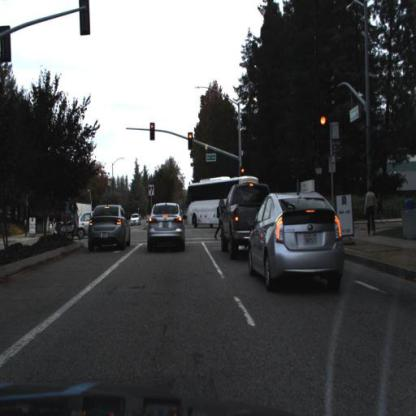car: (252, 188, 346, 294), (218, 184, 273, 259), (222, 184, 256, 257), (90, 204, 131, 251), (147, 205, 182, 251), (73, 211, 96, 238), (71, 212, 92, 237), (131, 213, 143, 228), (131, 215, 142, 227)
pedestrian: (364, 185, 380, 238), (364, 188, 380, 236)
trafficLight-Red: (321, 112, 330, 149), (319, 113, 329, 145), (188, 131, 195, 151), (189, 131, 194, 151), (241, 168, 246, 178), (242, 168, 246, 178)
trafficLight-RedLeft: (150, 124, 156, 142)
truck: (46, 189, 93, 236), (187, 180, 233, 219)
